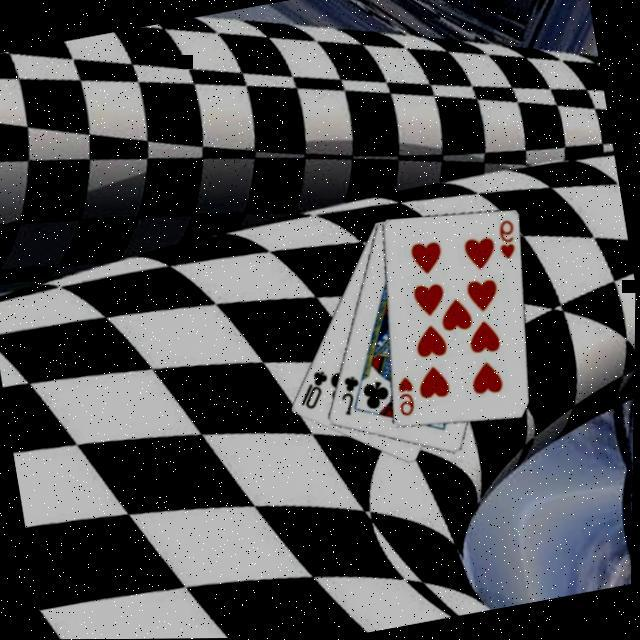10C: (293, 364, 337, 412)
9H: (392, 371, 422, 419), (492, 215, 522, 262)
JC: (335, 370, 368, 418)
